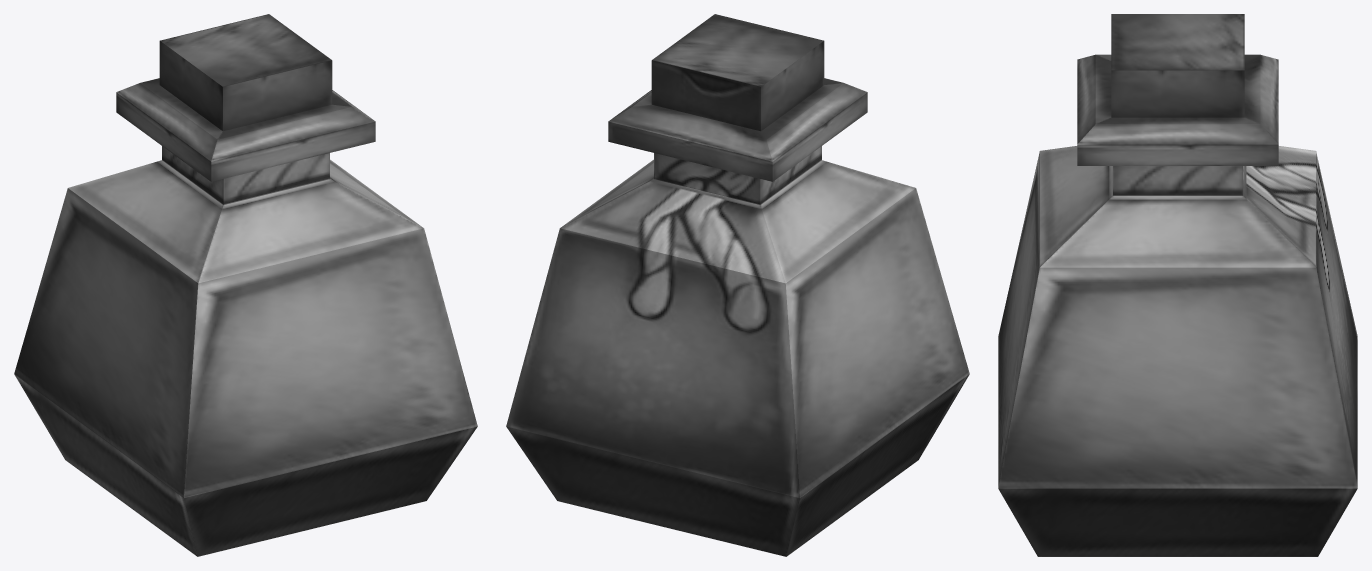
File: mdl_pickup.glb
3 views of the same model, side by side, from view 1: azimuth 30°, elevation 25°; view 2: azimuth 150°, elevation 25°; view 3: azimuth 270°, elevation 25° (orthographic). The views are drawn at different scales.
Visible parts, largest first — view 1: P_White; view 2: P_White; view 3: P_White.
Part boxes in pixels (bbox=[...]): P_White: bbox=[14, 14, 477, 556]; P_White: bbox=[506, 14, 969, 556]; P_White: bbox=[998, 14, 1357, 556].
Bounding box in the file's own units: 2.14 × 3 × 2.14.
Materials: 1 (1 with a texture image).
